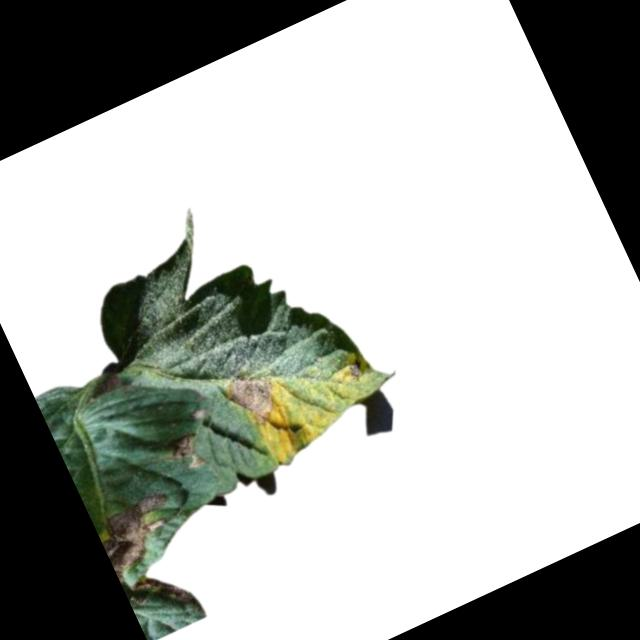Early_blight: (91, 487, 212, 628), (219, 360, 294, 441), (161, 426, 209, 479), (342, 356, 372, 388)
